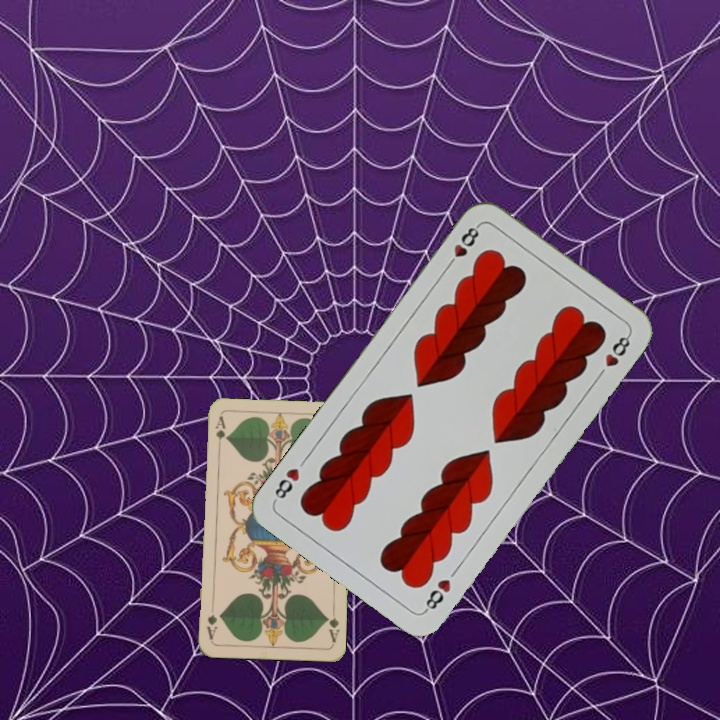GA: (323, 605, 342, 645), (211, 413, 228, 453)
H8: (442, 220, 483, 271), (420, 575, 454, 615)
